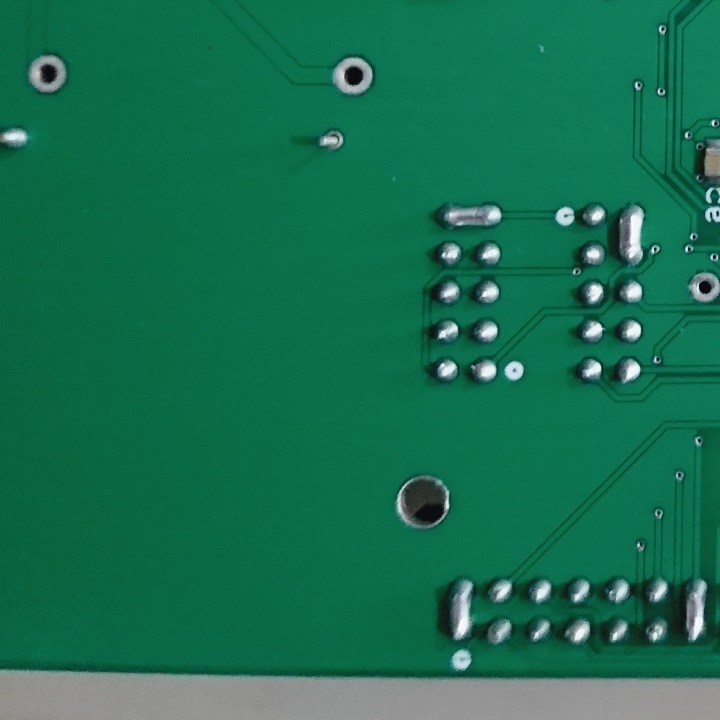F: (327, 50, 377, 100), (24, 49, 71, 98), (686, 266, 720, 306), (313, 124, 346, 152)
P: (441, 573, 478, 647), (679, 572, 710, 651), (433, 198, 505, 232), (615, 198, 649, 269)
